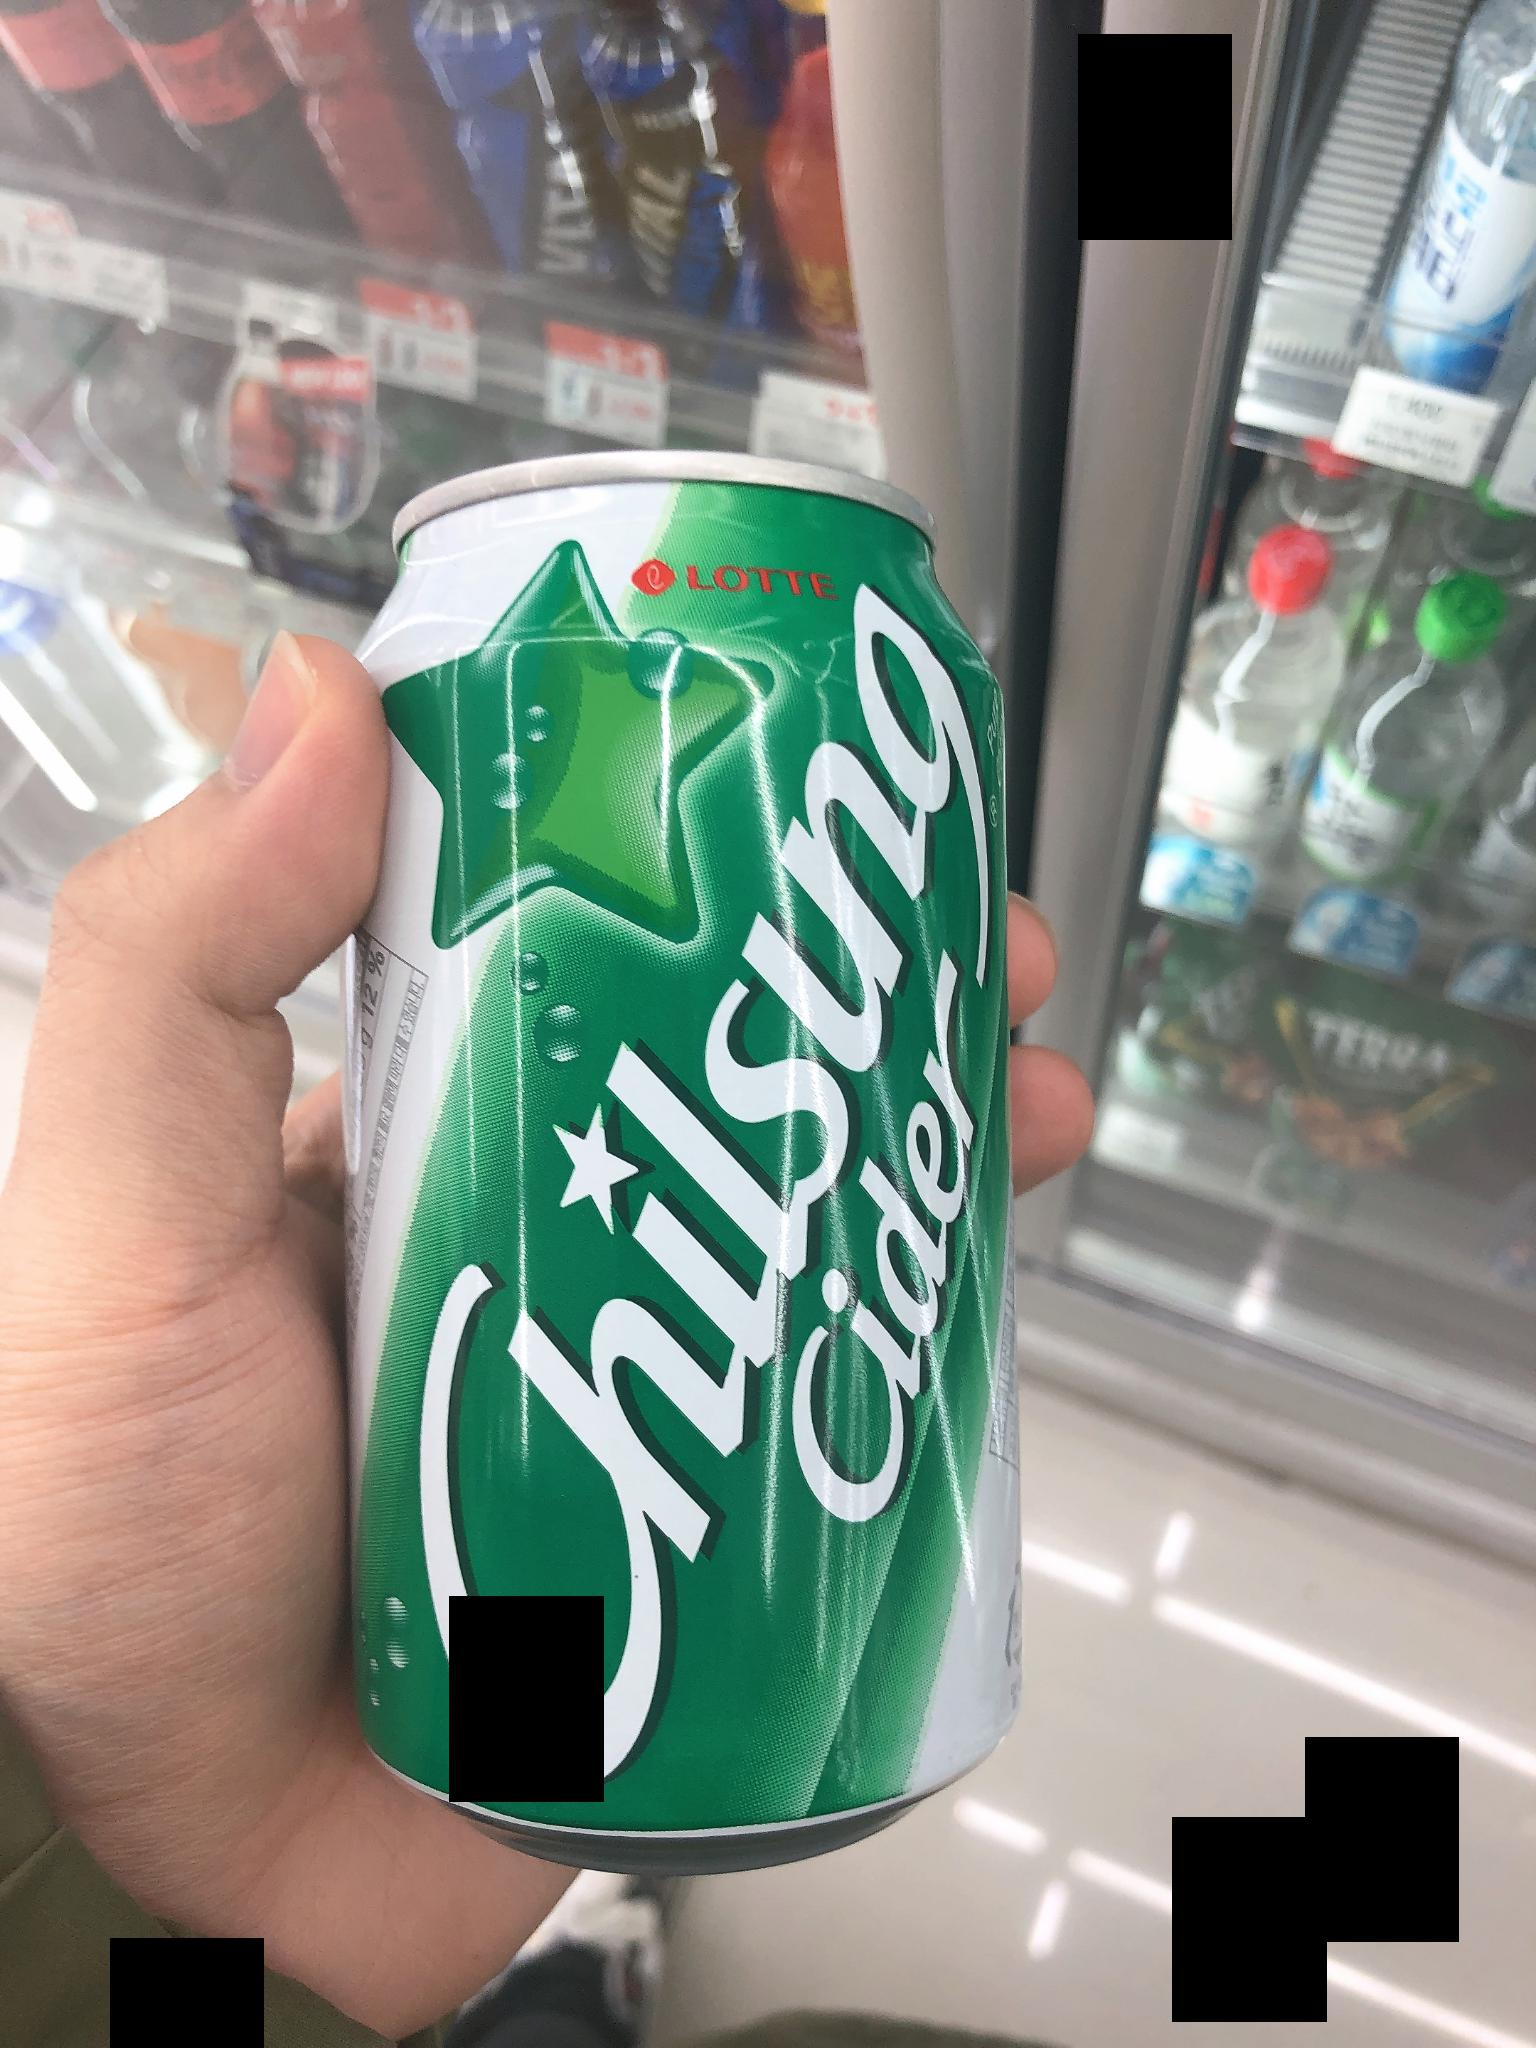chilsungcider: (323, 411, 1021, 1864)
